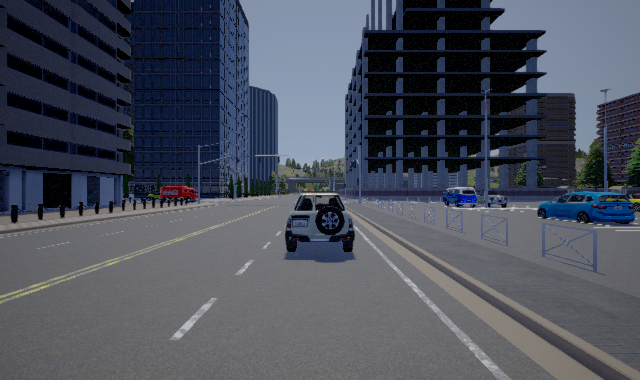vehicle: (285, 189, 355, 252), (537, 191, 640, 224), (443, 187, 485, 208), (157, 186, 201, 202), (488, 189, 509, 208)
